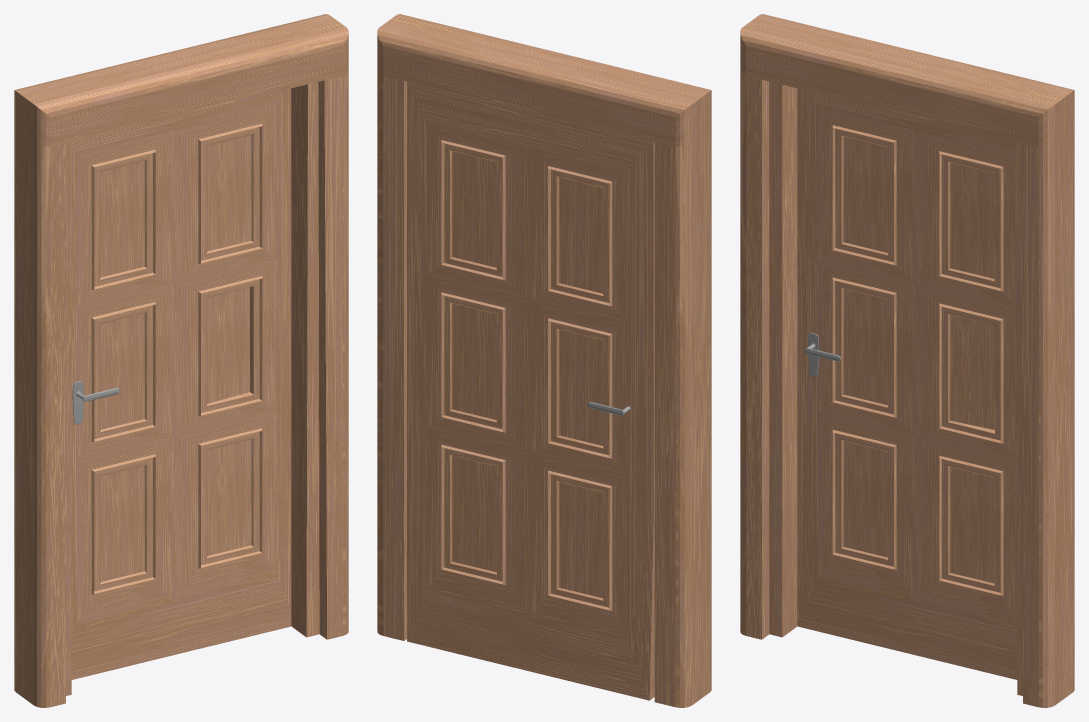
Rendered from wooden_door_closed.dae.
3 views of the same model, side by side, from view 1: azimuth 30°, elevation 25°; view 2: azimuth 150°, elevation 25°; view 3: azimuth 330°, elevation 25° (orthographic).
Parts seen in each view (by area): view 1: Wood Board, Door, Handle_Handle.001; view 2: Wood Board, Door; view 3: Wood Board, Door, Handle_Handle.001.
Boxes of the visible parts, box(x1,y1,x2,y2) form: Wood Board: box(71, 88, 291, 679); Door: box(14, 14, 348, 707); Handle_Handle.001: box(72, 381, 119, 424); Wood Board: box(407, 81, 654, 700); Door: box(377, 14, 711, 707); Wood Board: box(797, 88, 1017, 679); Door: box(740, 14, 1074, 707); Handle_Handle.001: box(804, 333, 840, 376).
Size of the model in its own units: 1.2 by 0.2432 by 2.2.
